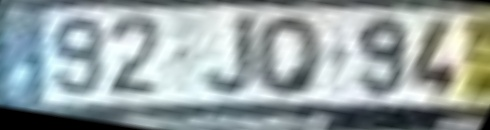2: (101, 10, 166, 100)
4: (408, 17, 465, 100)
9: (352, 15, 416, 100), (48, 15, 109, 100)
J: (199, 12, 260, 99)
Q: (254, 13, 320, 98)
